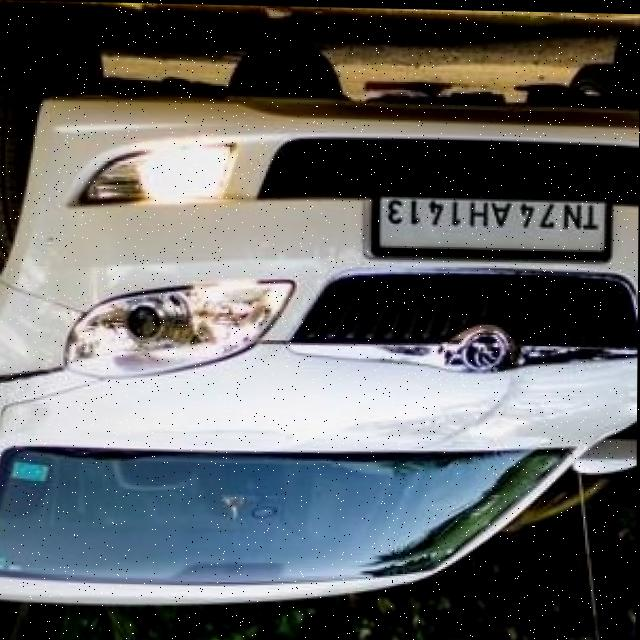plate: (380, 195, 605, 251)
